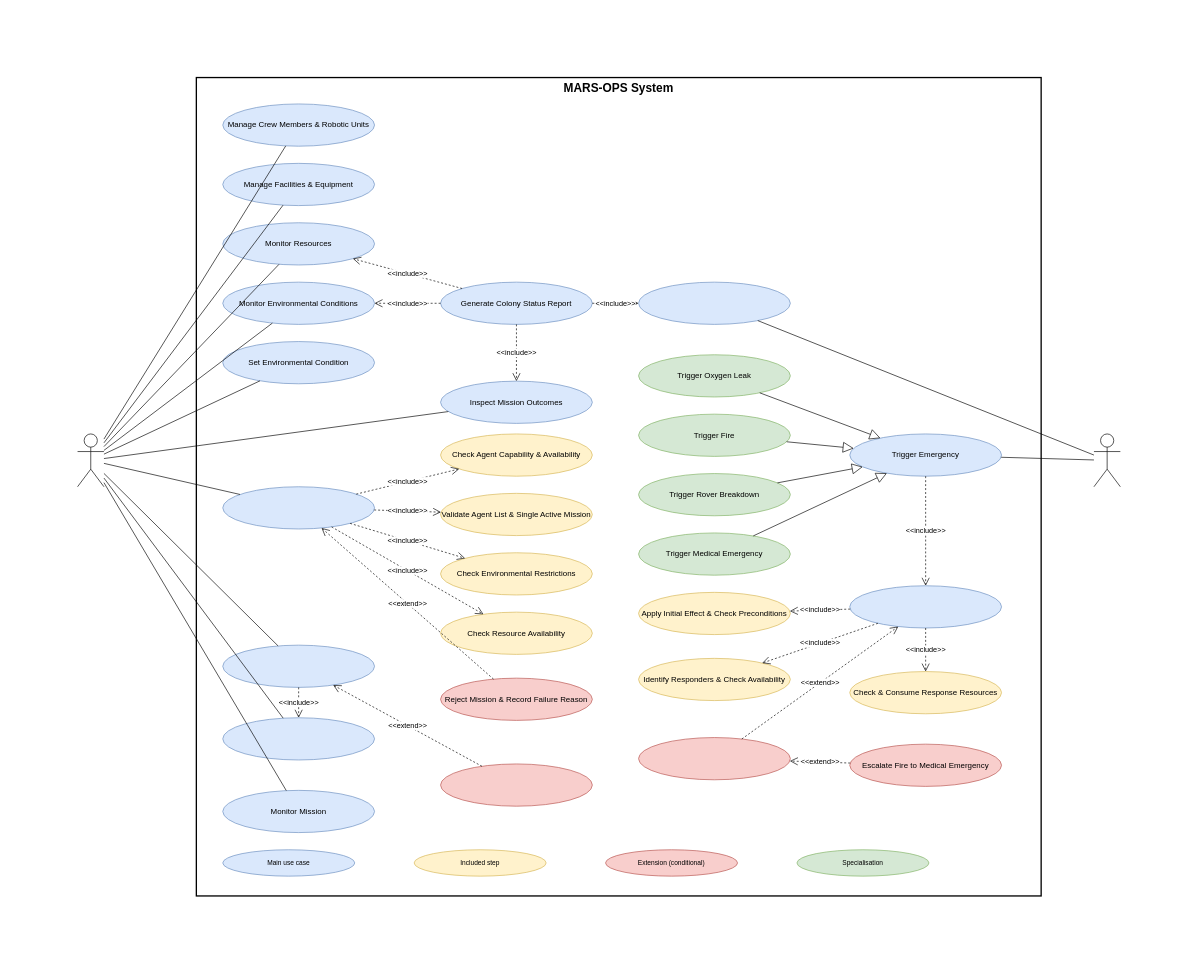
Some shapes in this 1197 by 973 pixel diagram are drawn without their labels. Here are the shapes that lost their labels. From the top down, the centre of each, then its label:
point 714,302: Inspect Emergency Outcomes
point 90,460: Colony Operator
point 1106,460: Emergency Operator
point 298,507: Submit & Assign Mission
point 925,606: Handle Emergency
point 298,665: Execute Mission
point 298,738: Advance Simulation Time
point 714,758: Apply Penalty & Mark Emergency Unresolved
point 516,784: Fail Mission In Progress
